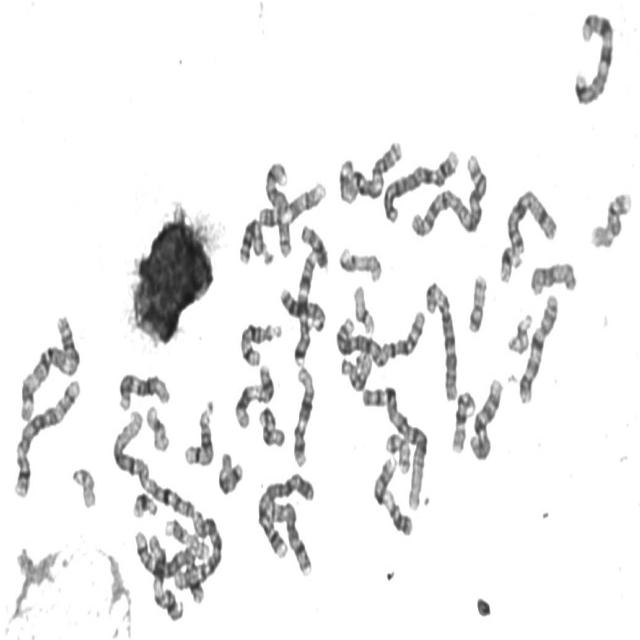A1: (109, 408, 196, 521), (358, 379, 429, 515)
A2: (407, 148, 489, 240), (333, 302, 428, 370)
A3: (16, 309, 82, 425), (336, 134, 404, 205)
B4: (380, 143, 461, 225), (253, 468, 316, 562)
B5: (10, 372, 82, 500), (133, 529, 206, 605)
C10: (516, 288, 560, 406), (466, 373, 504, 462)
C11: (146, 529, 186, 624), (232, 358, 276, 431)
C12: (290, 362, 316, 469), (115, 366, 172, 412)
C6: (422, 276, 460, 402), (171, 508, 224, 592)
C7: (570, 7, 616, 107), (291, 245, 319, 368)
C8: (265, 496, 314, 578), (262, 158, 293, 260)
C9: (370, 451, 414, 538), (256, 177, 328, 228)
D13: (276, 283, 326, 334), (236, 213, 276, 269)
D14: (182, 398, 216, 468), (237, 318, 283, 367)
D15: (527, 256, 579, 298), (338, 346, 373, 393)
E16: (587, 187, 634, 250), (448, 386, 476, 455)
E17: (162, 514, 210, 562), (336, 241, 383, 285)
E18: (215, 446, 245, 497), (256, 403, 286, 449)
F19: (142, 400, 171, 453), (350, 280, 377, 336)
F20: (464, 269, 488, 335), (382, 429, 413, 475)
G21: (496, 241, 523, 285), (130, 487, 158, 520)
G22: (504, 308, 534, 356), (69, 462, 97, 511)
X: (504, 184, 560, 257)
